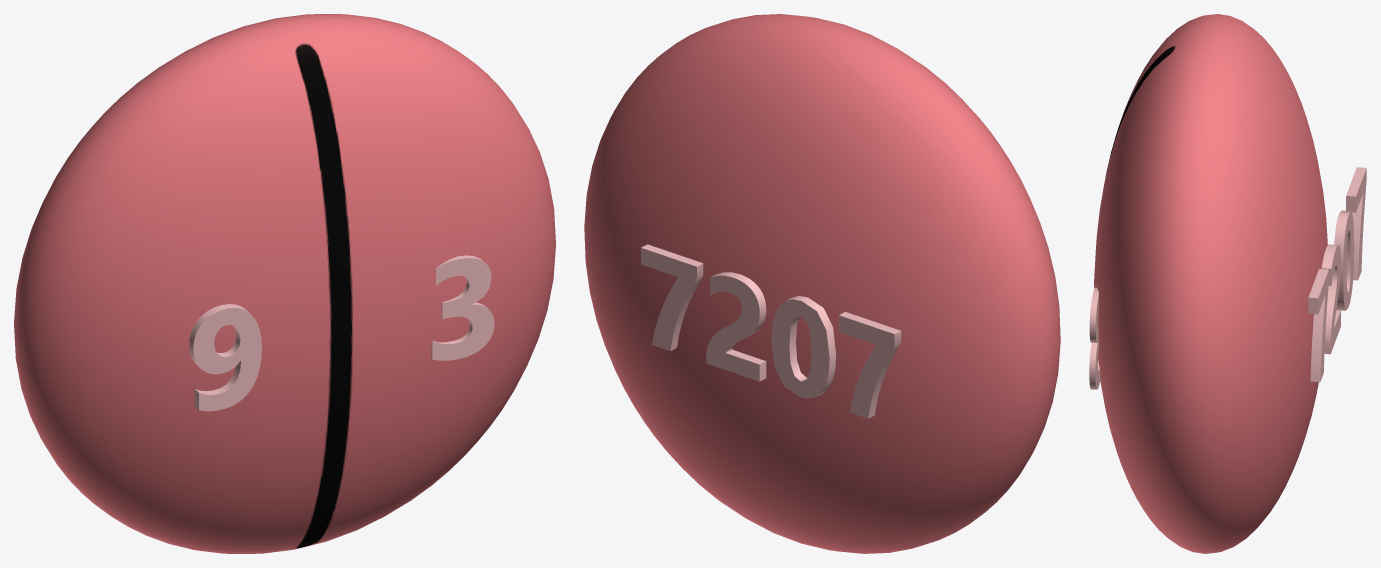
The model's file is Mirtazapine.fbx.
3 views of the same model, side by side, from view 1: azimuth 30°, elevation 25°; view 2: azimuth 150°, elevation 25°; view 3: azimuth 270°, elevation 25° (orthographic). The views are drawn at different scales.
Visible parts, largest first — view 1: node_id98, node_id31, node_id53; view 2: node_id98, node_id63; view 3: node_id98, node_id63, node_id53.
Boxes of the visible parts, x1,y1,x2,y2 form: node_id98: (14, 14, 555, 553); node_id31: (189, 304, 261, 411); node_id53: (431, 255, 494, 360); node_id98: (584, 14, 1060, 553); node_id63: (641, 244, 901, 418); node_id98: (1094, 14, 1327, 553); node_id63: (1308, 167, 1366, 382); node_id53: (1089, 287, 1100, 389).
Size of the model in its own units: 0.6074 by 0.6106 by 0.3136.
Materials: 4 (1 with a texture image).
